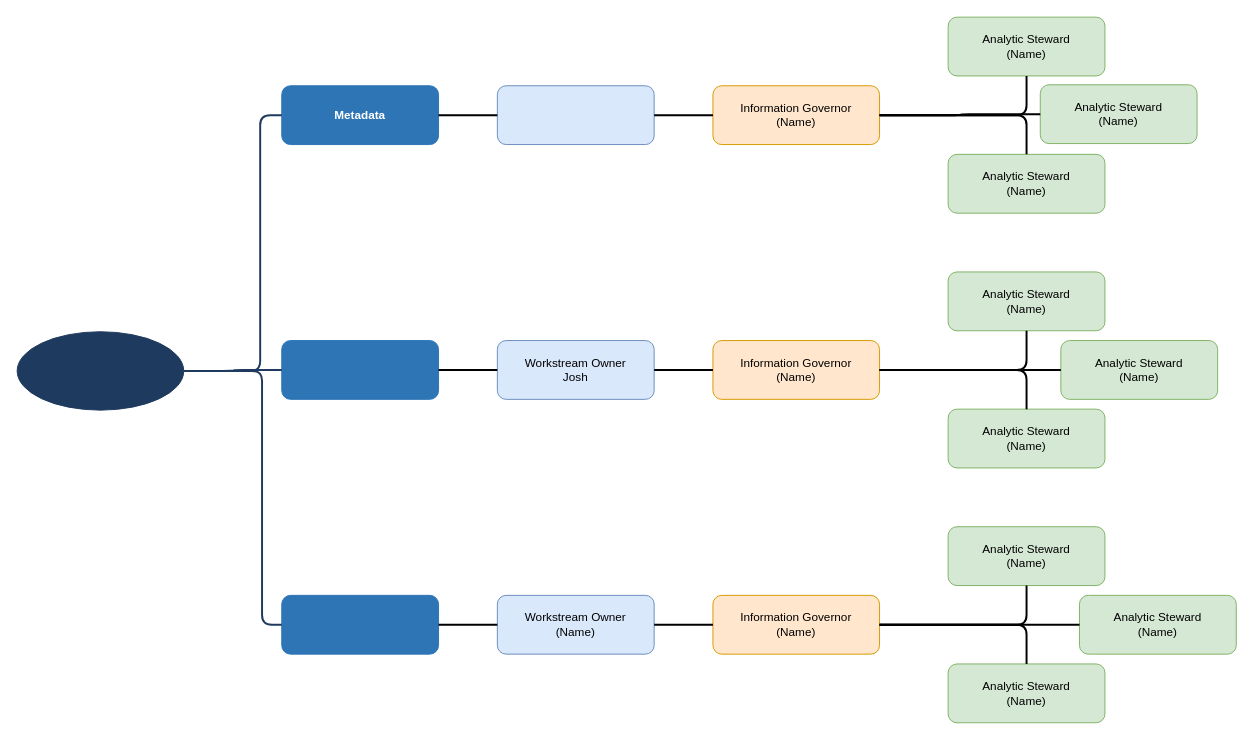
Image size: 1253x740. Some labels were removed from this diagram. The shapes that lost their labels are listed below. From the top down, each one's centre as x and y in pixels, then its label:
[575,115]: Workstream Owner Mandy
[100,370]: Data Governance Workstreams
[360,369]: Analytics Community
[360,624]: Workstream 3
